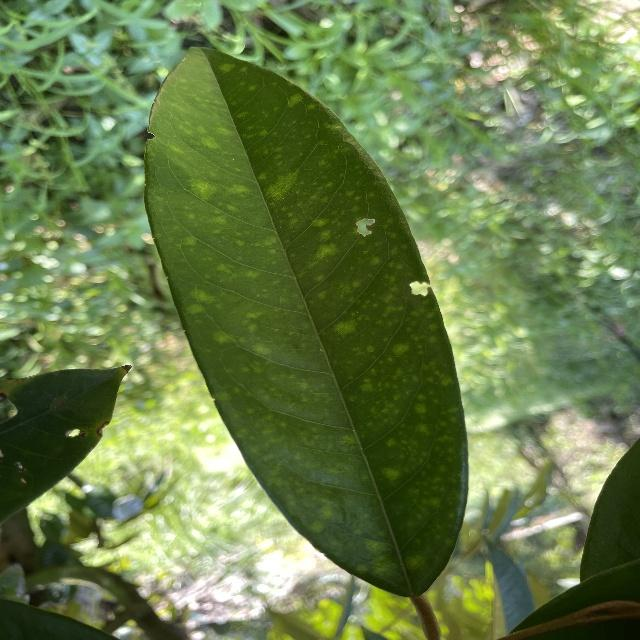Leaf Spot: (139, 28, 477, 607)
